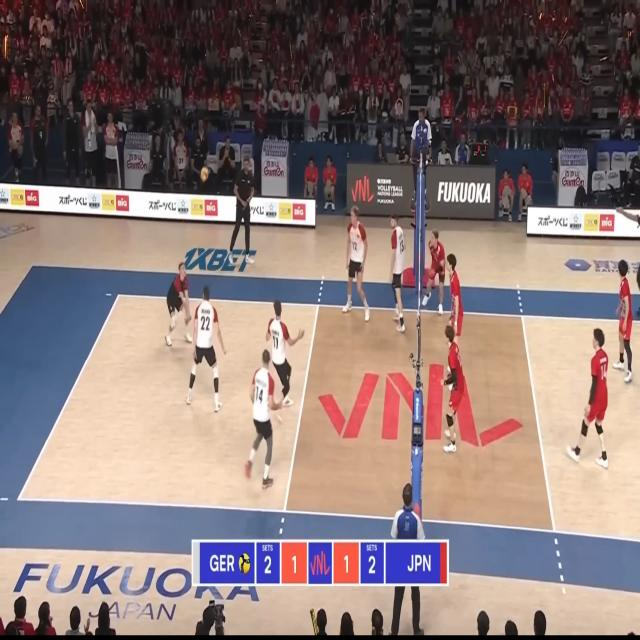ball: (201, 168, 208, 182)
